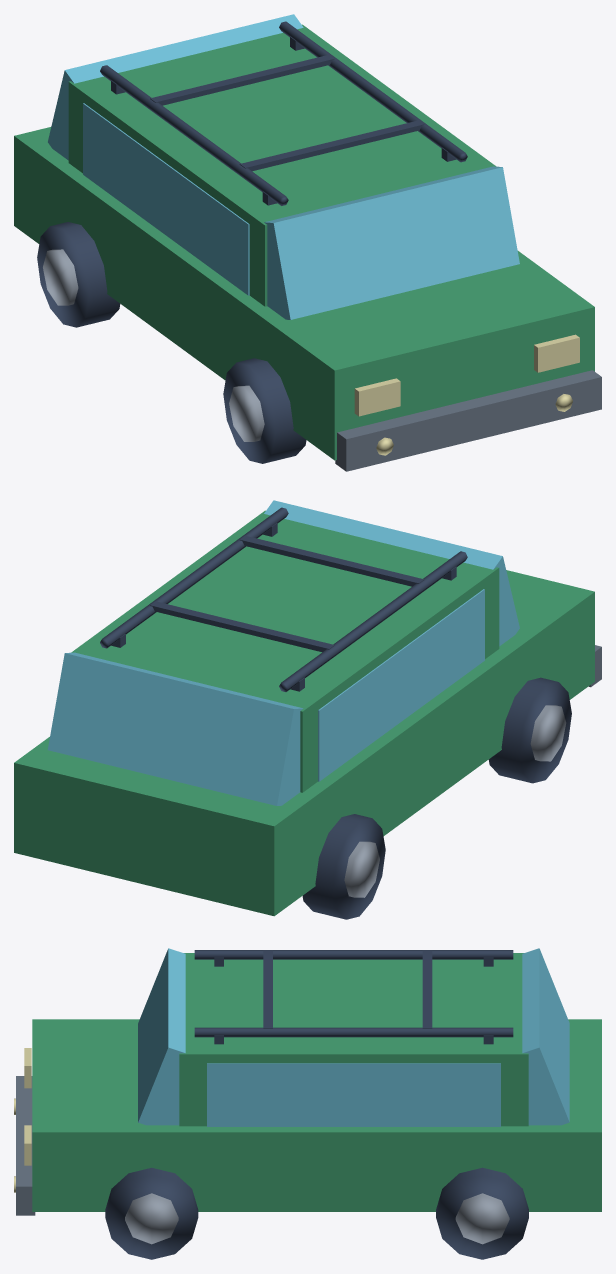
The model's file is parked-car.glb.
The picture shows the model from 3 angles, top to bottom: view 1: azimuth 30°, elevation 25°; view 2: azimuth 150°, elevation 25°; view 3: azimuth 270°, elevation 25°; orthographic projection. The views are drawn at different scales.
Parts seen in each view (by area): view 1: Root; view 2: Root; view 3: Root.
Boxes of the visible parts, x1,y1,x2,y2 form: Root: [14, 14, 601, 471]; Root: [14, 500, 601, 919]; Root: [14, 948, 601, 1259].
Size of the model in its own units: 2.57 by 1.86 by 4.8.
